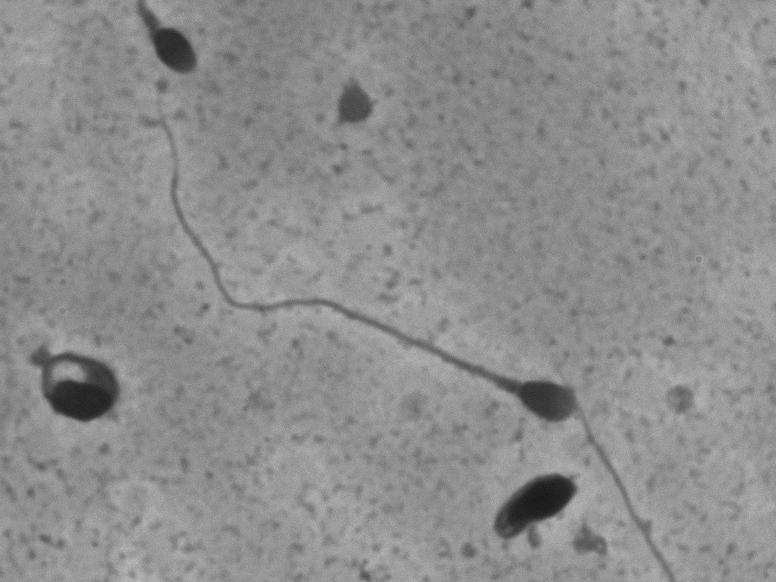Abnormal: (3, 339, 132, 447)
Normal: (143, 61, 583, 435)
